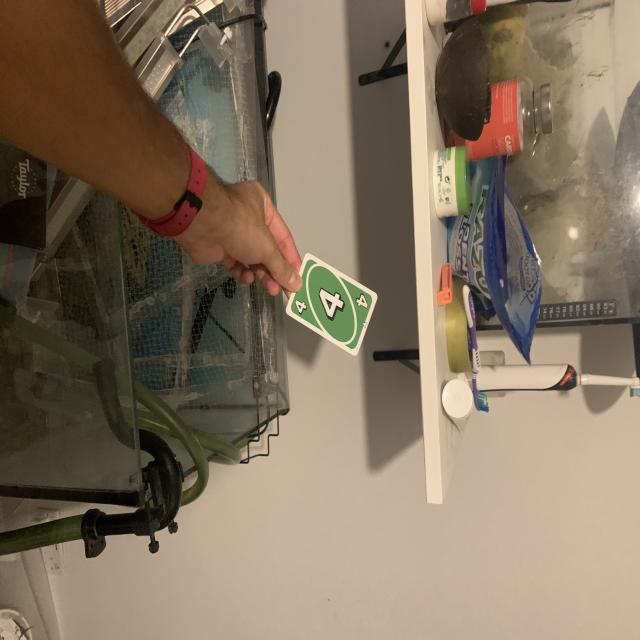lgreen-4: (292, 298, 311, 316)
